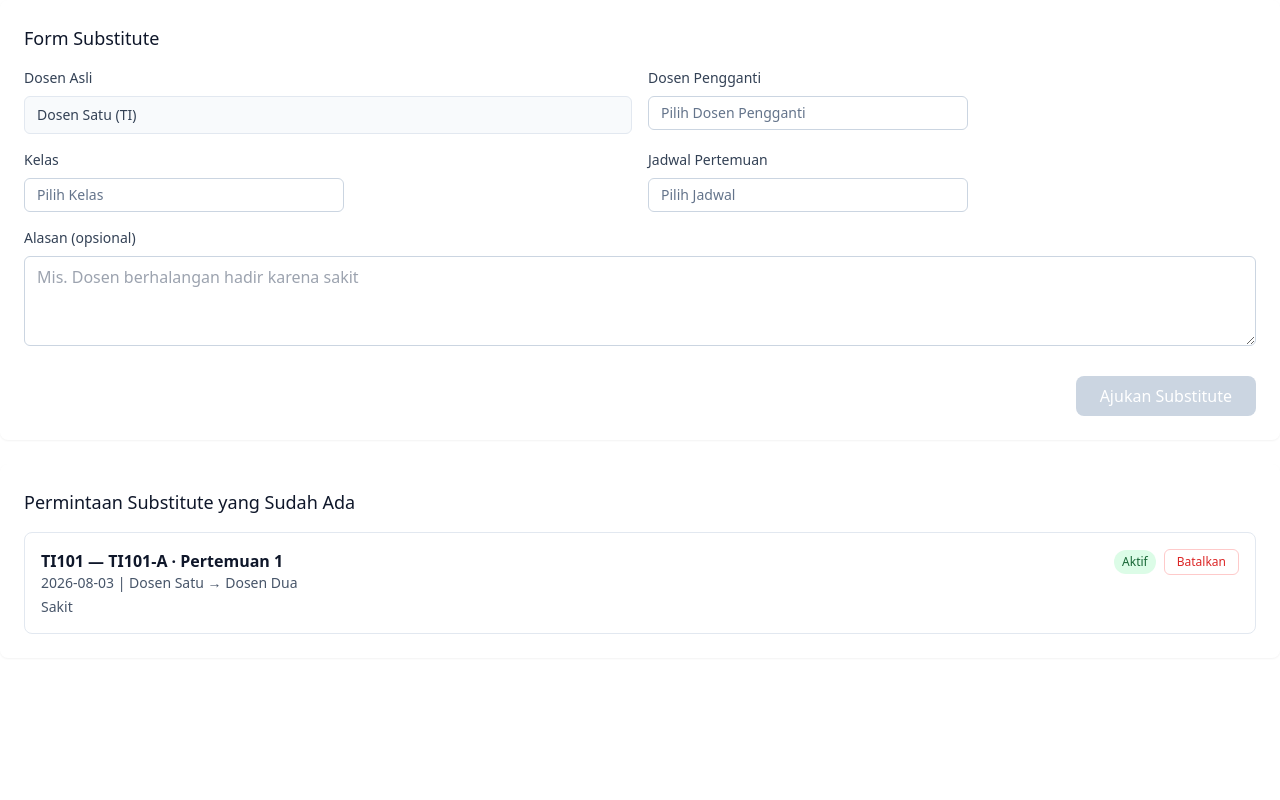
Test: DosenSubstitute (T3.8) › batalkan request → PUT /substitute/:id/cancel
expect the heading "TI101 — TI101-A · Pertemuan 1" is shown: met, box [41,549,298,573]
Click the button "Batalkan" at x=1201, y=562, box [1164,549,1239,575]
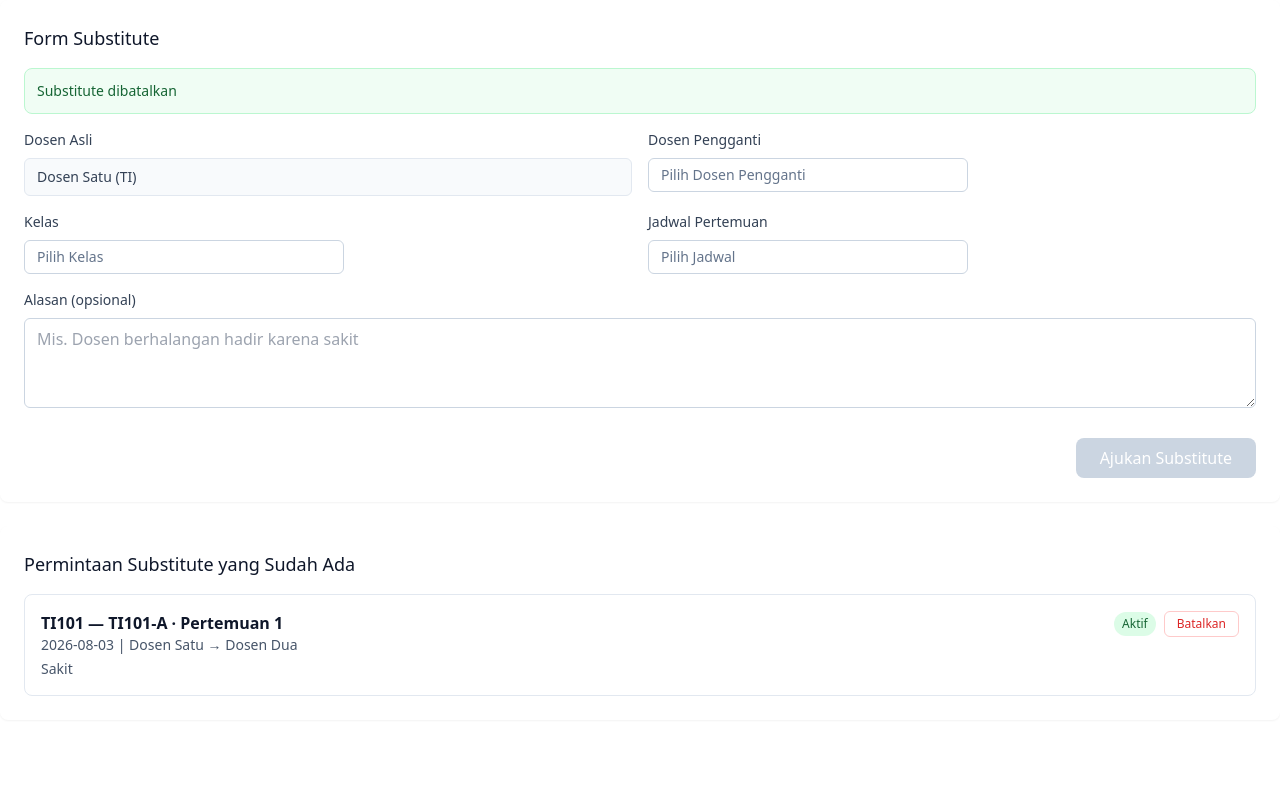
expect the message reads "Substitute dibatalkan": met, box [37,81,177,100]
